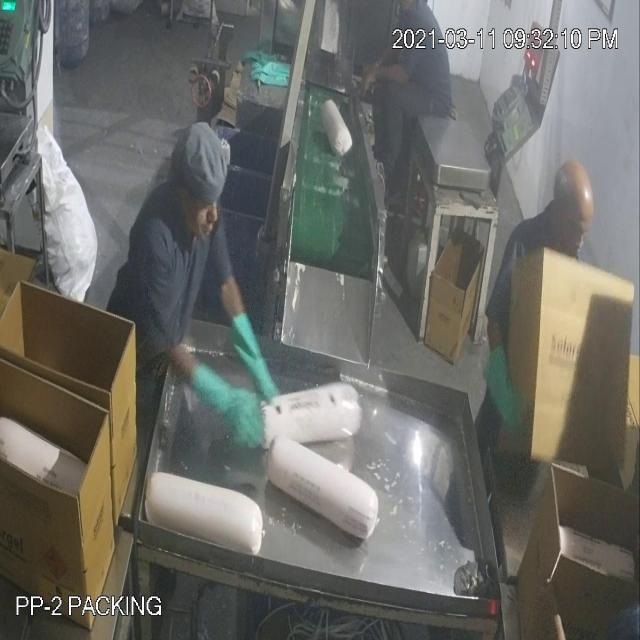Gloves: (45, 65, 505, 408)
